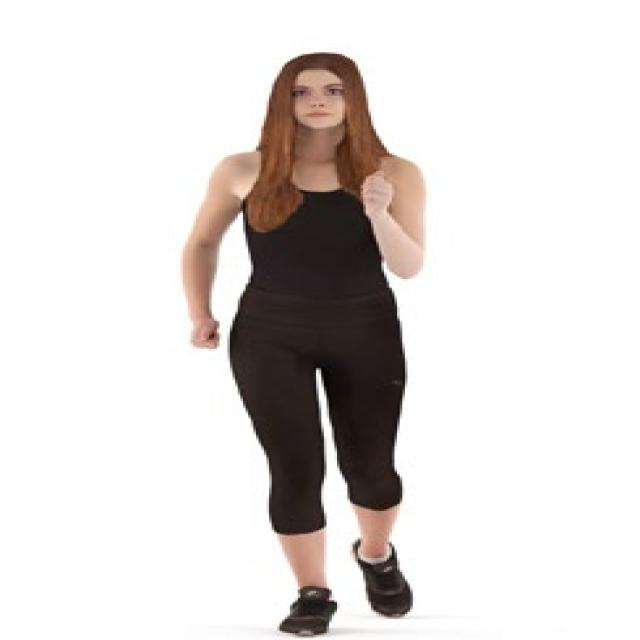running: (179, 50, 446, 639)
